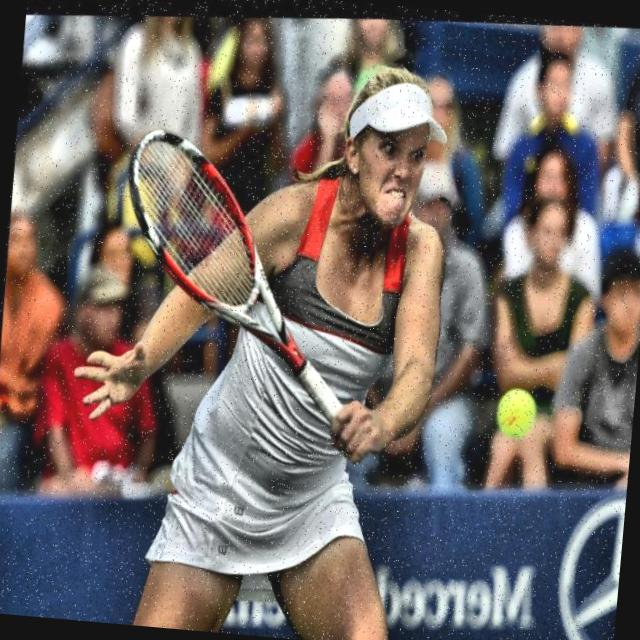Tennis Ball: (490, 382, 536, 439)
